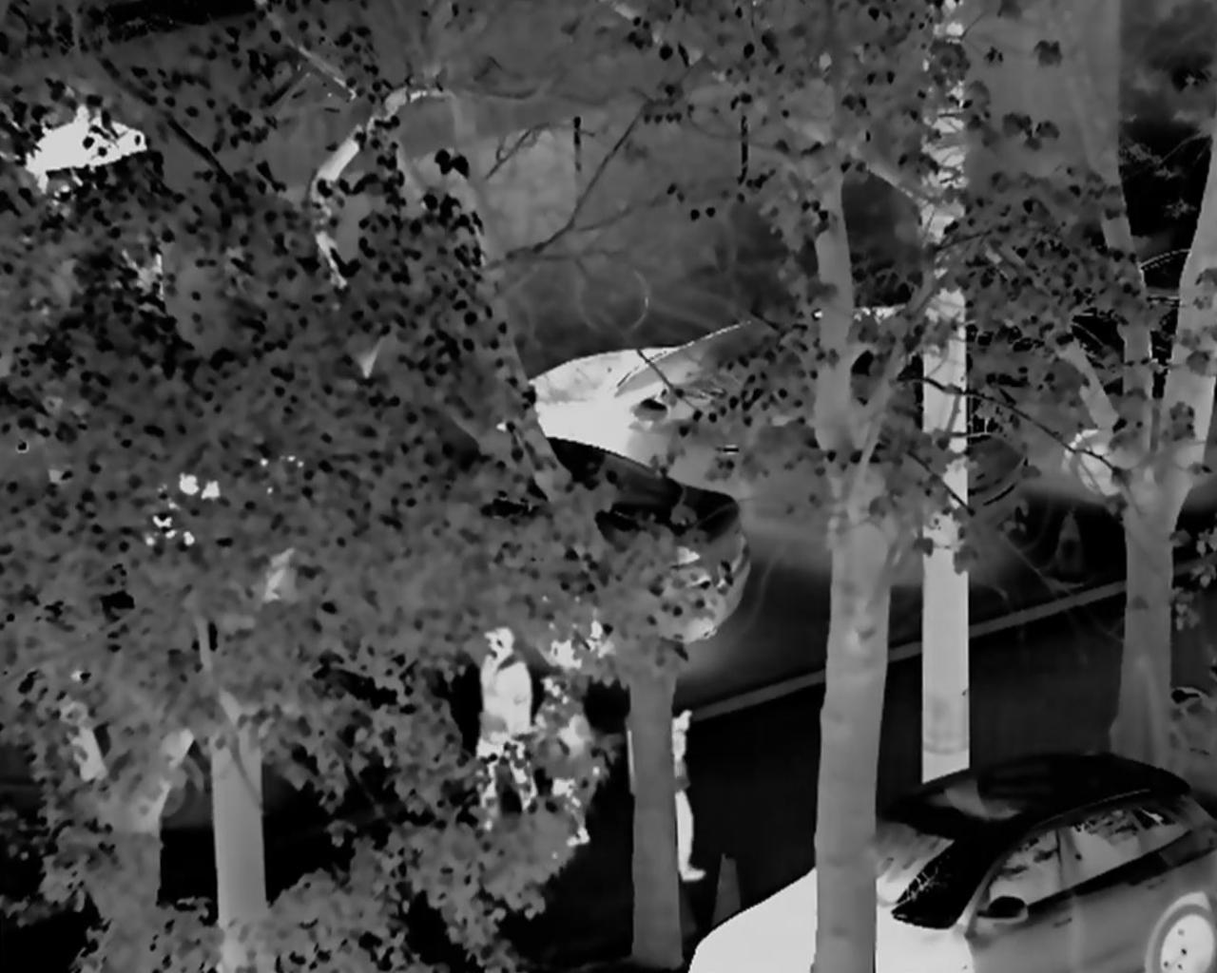person: (460, 628, 542, 837), (623, 700, 709, 888), (531, 675, 612, 849)
